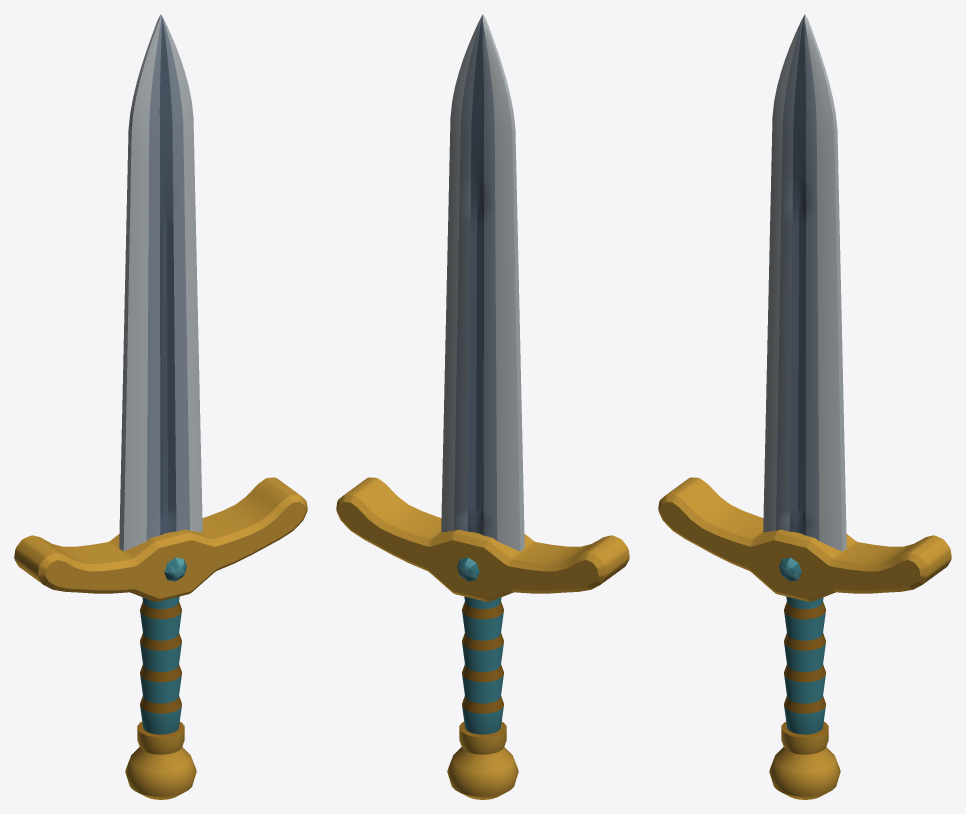
The model's file is Longsword_24.glb.
3 views of the same model, side by side, from view 1: azimuth 30°, elevation 25°; view 2: azimuth 150°, elevation 25°; view 3: azimuth 330°, elevation 25° (orthographic).
Parts seen in each view (by area): view 1: Longsword_24; view 2: Longsword_24; view 3: Longsword_24.
Boxes of the visible parts, bbox=[...] form: Longsword_24: bbox=[14, 14, 307, 799]; Longsword_24: bbox=[336, 14, 629, 799]; Longsword_24: bbox=[658, 14, 951, 799].
Bounding box in the file's own units: 2.5 × 6.89 × 0.5828.
